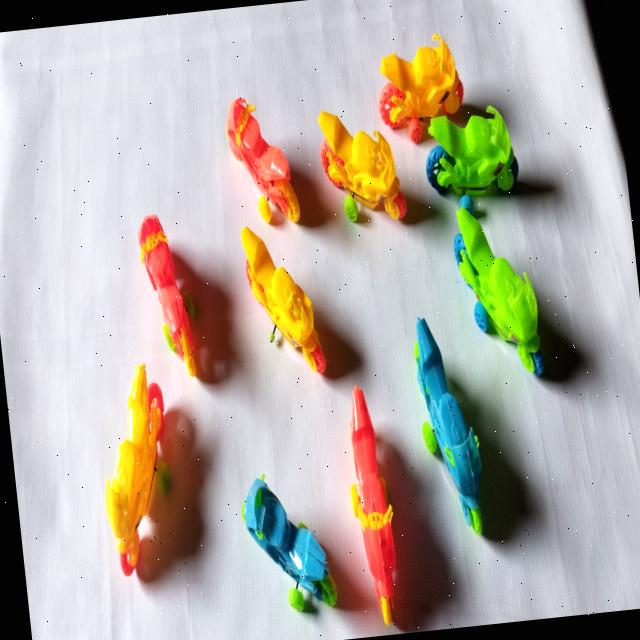bikes: (454, 205, 542, 374), (414, 318, 482, 533), (105, 363, 169, 575), (241, 476, 337, 611), (241, 226, 324, 371), (350, 385, 395, 623), (426, 105, 518, 214), (318, 110, 406, 221), (137, 214, 196, 376), (226, 97, 299, 223), (379, 33, 463, 142)
